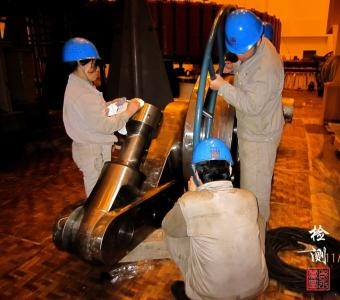blue: (190, 133, 235, 186), (222, 8, 266, 61), (62, 38, 100, 80)
